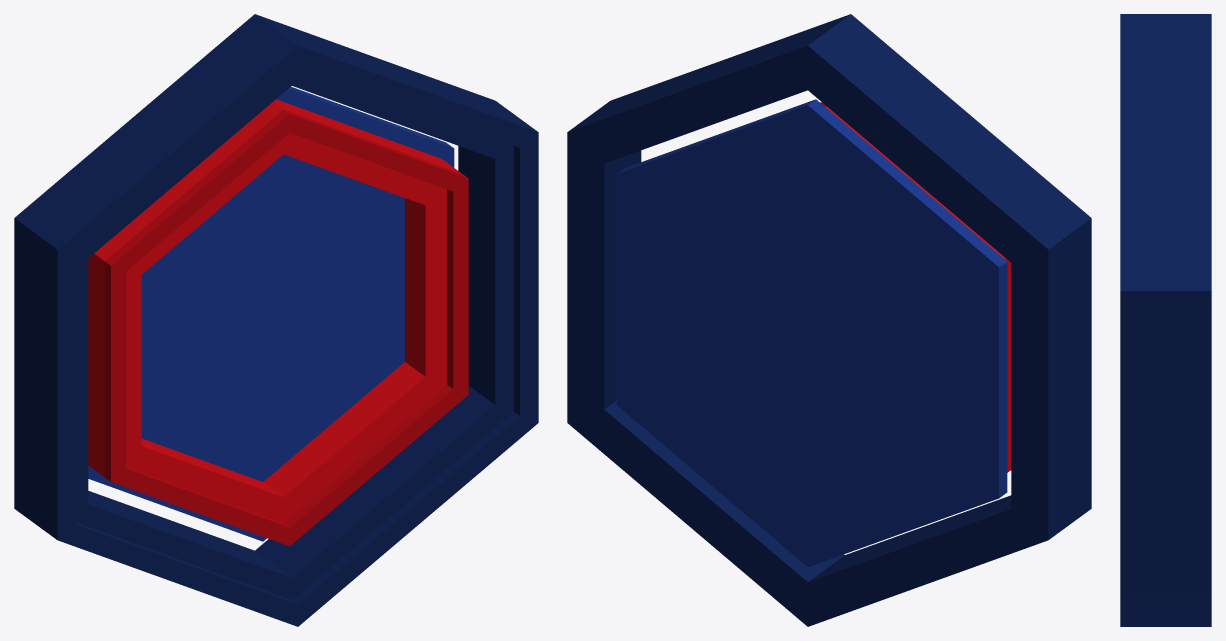
Rendered from reakt_modulo_hexagonal_v1.obj.
3 views of the same model, side by side, from view 1: azimuth 30°, elevation 25°; view 2: azimuth 150°, elevation 25°; view 3: azimuth 270°, elevation 25° (orthographic). The views are drawn at different scales.
Bounding box in the file's own units: 135 × 156 × 21.
